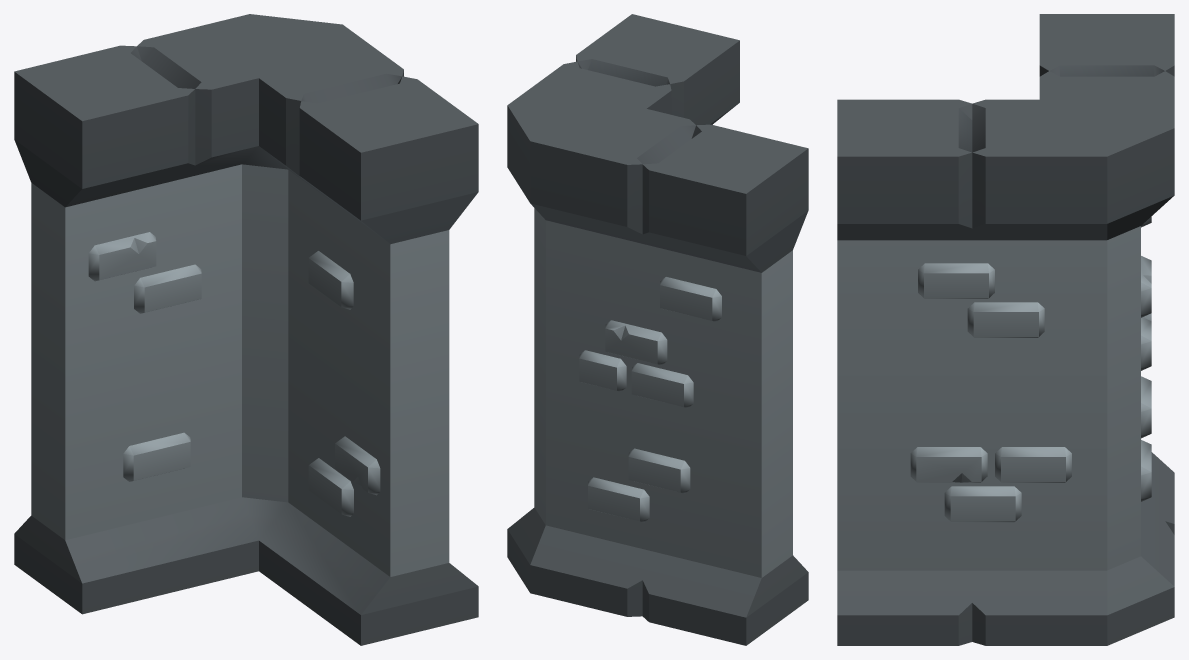
Rendered from wall_corner.fbx.
3 renders of one model, left to right at view 1: azimuth 30°, elevation 25°; view 2: azimuth 150°, elevation 25°; view 3: azimuth 270°, elevation 25°, orthographic. The views are drawn at different scales.
Visible parts, largest first — view 1: wall_corner; view 2: wall_corner; view 3: wall_corner.
Part boxes in pixels (<box>): wall_corner: <box>14,14,478,645</box>; wall_corner: <box>507,14,808,645</box>; wall_corner: <box>837,14,1174,645</box>.
Size of the model in its own units: 250 by 400 by 250.
1 material, 1 textured.
